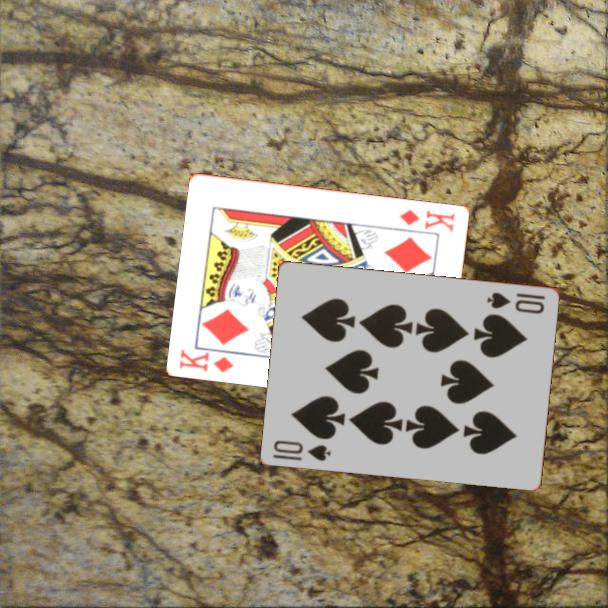d13: (176, 345, 237, 375), (396, 206, 458, 235)
s10: (484, 289, 548, 317), (270, 436, 334, 464)
